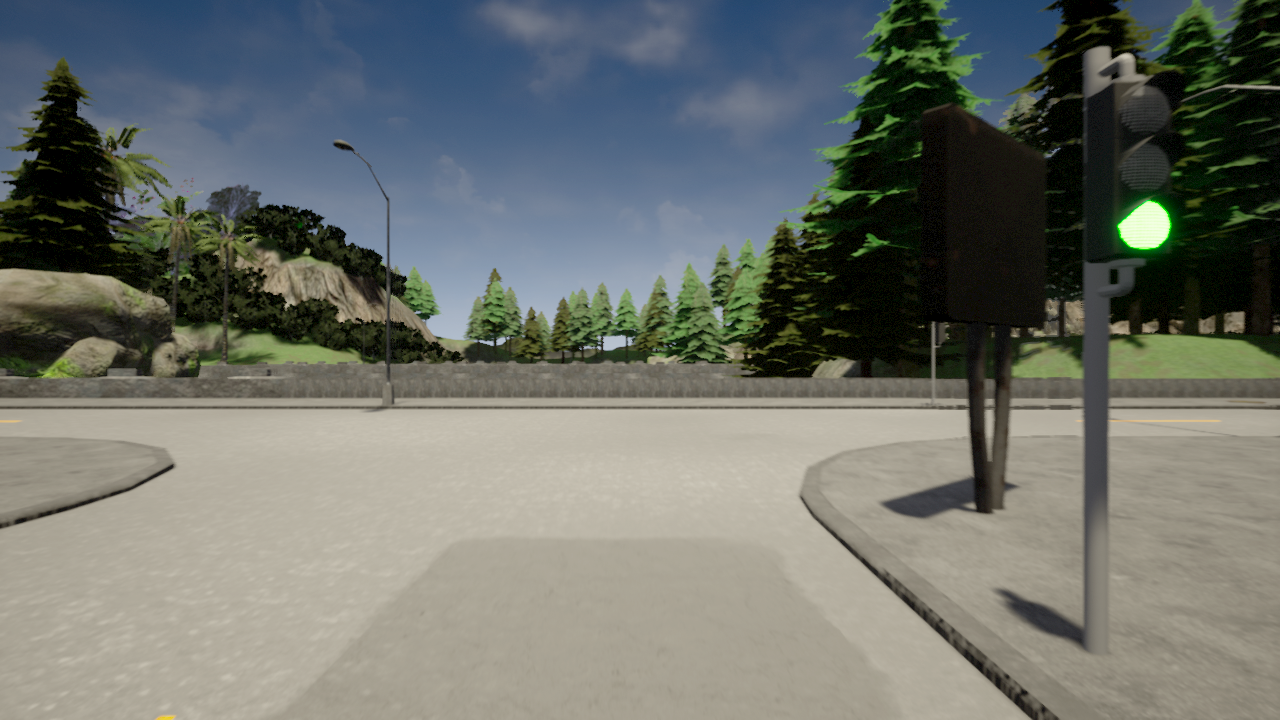green: (1090, 68, 1186, 263)
